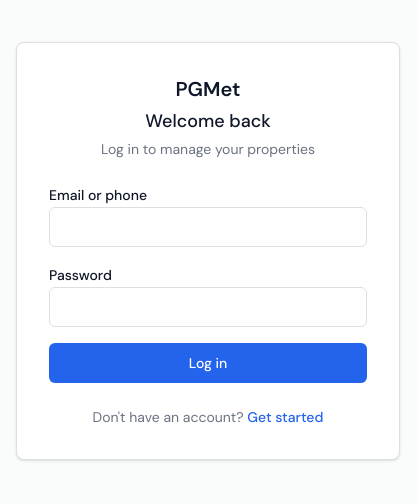
Scenario: LoginPage › shows client-side validation before hitting the network
The image size is (417, 504).
Click the button "Log in": coordinates (208, 363) 49,343 -> 367,383
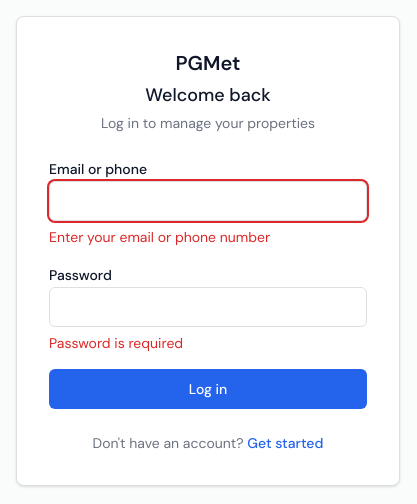
Expected: the text "Enter your email or phone number" is shown, 49,228 -> 270,246
